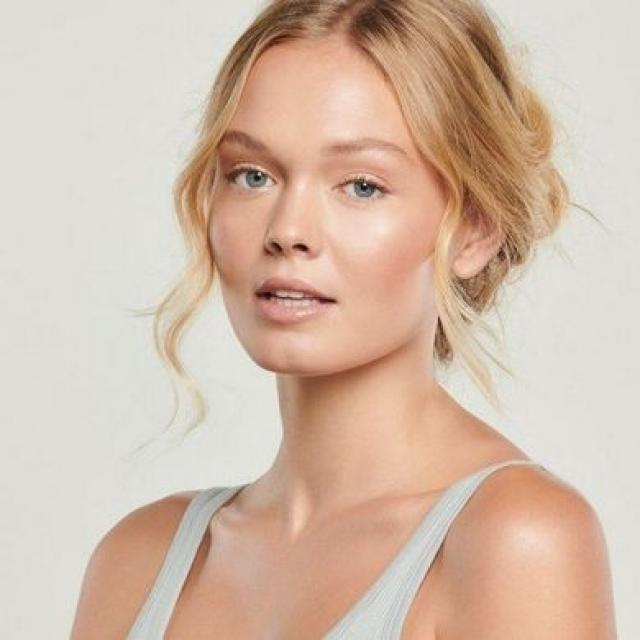earlobe: (452, 243, 483, 280)
eye: (331, 172, 392, 205), (225, 162, 282, 194)
nose: (262, 238, 320, 276)
wholeear: (454, 207, 505, 280)
